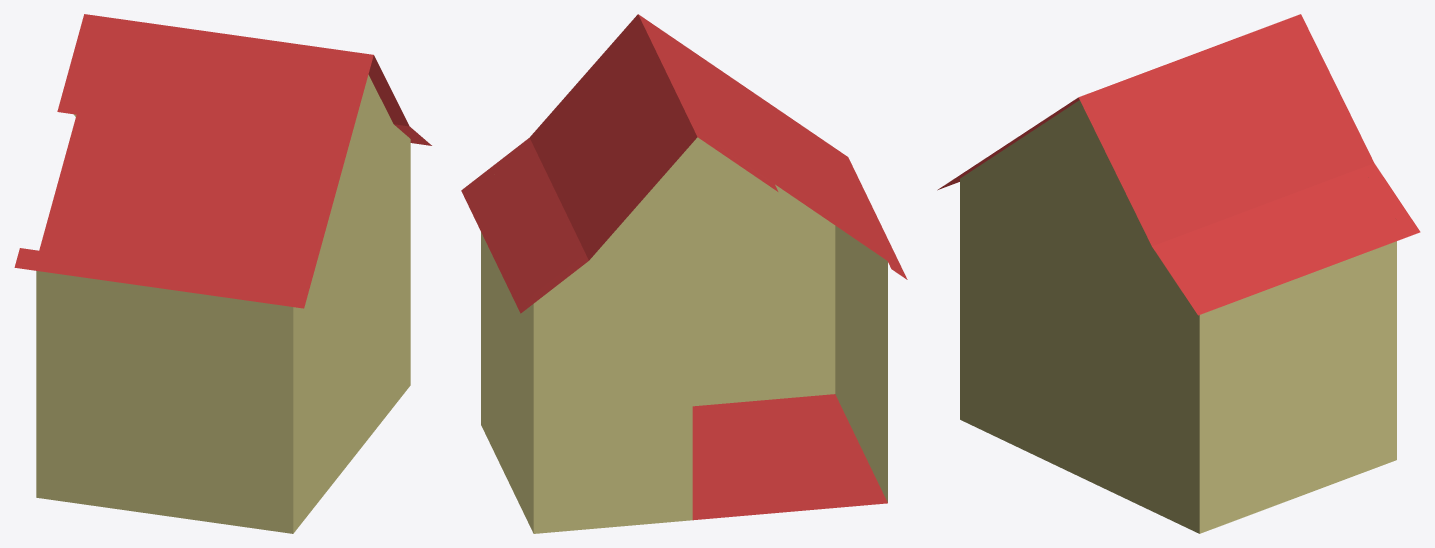
3 views of the same model, side by side, from view 1: azimuth 30°, elevation 25°; view 2: azimuth 150°, elevation 25°; view 3: azimuth 270°, elevation 25° (orthographic). The views are drawn at different scales.
Bounding box in the file's own units: 14.71 × 14.46 × 12.83.
